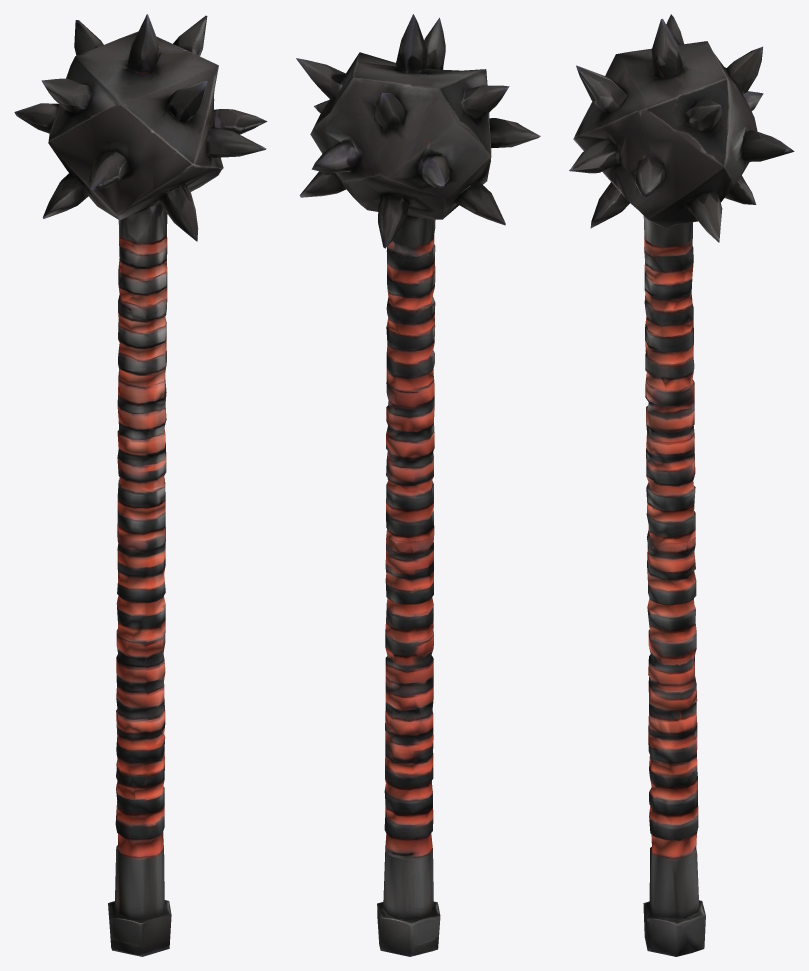
File: 1564_flail.glb
3 renders of one model, left to right at view 1: azimuth 30°, elevation 25°; view 2: azimuth 150°, elevation 25°; view 3: azimuth 270°, elevation 25°, orthographic.
Parts seen in each view (by area): view 1: Model; view 2: Model; view 3: Model.
Part boxes in pixels (x1=…): Model: x1=14, y1=14, x2=267, y2=956; Model: x1=296, y1=14, x2=540, y2=956; Model: x1=569, y1=14, x2=794, y2=956.
Size of the model in its own units: 0.2379 by 1 by 0.2212.
1 material, 1 textured.
